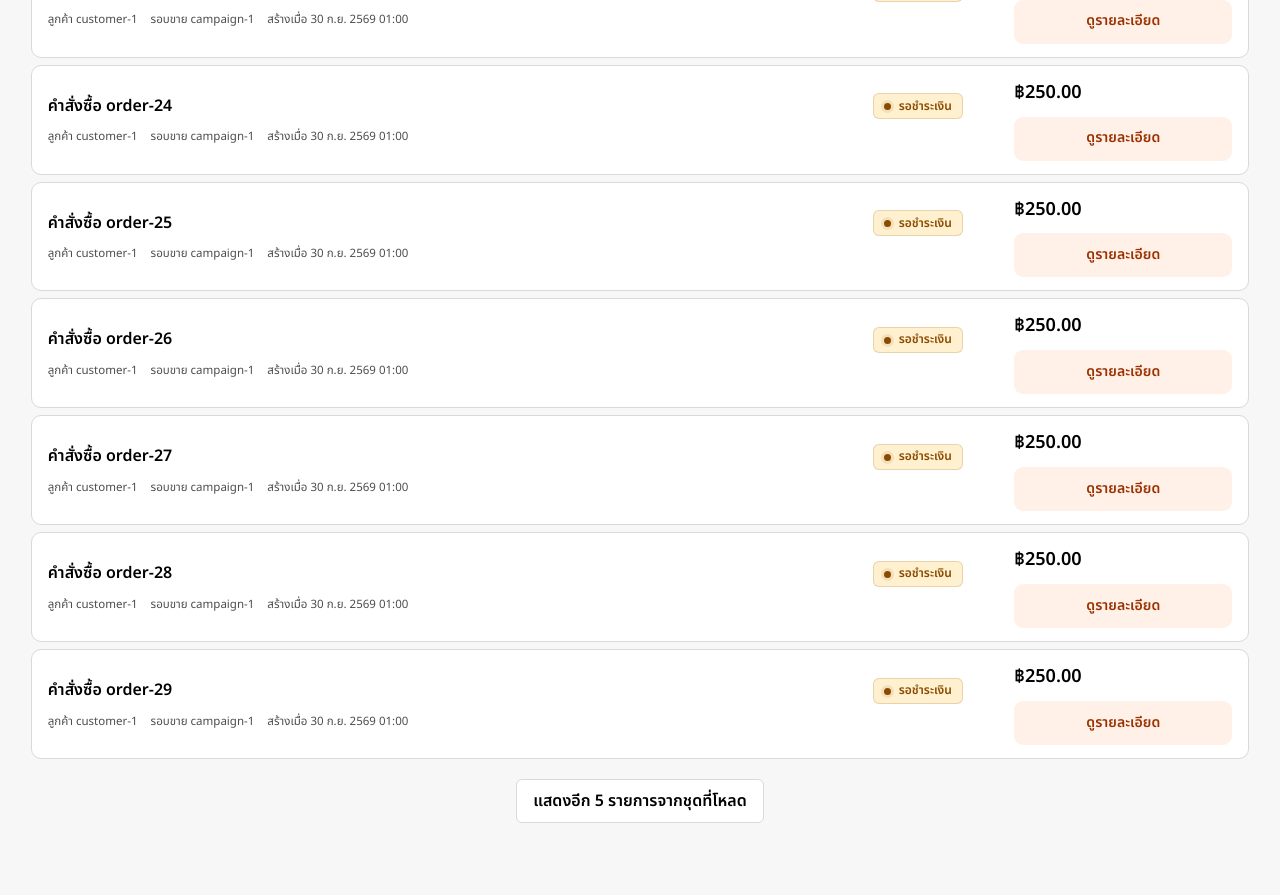
Test case: OrganizationOrdersView › renders at most 30 loaded records initially and reveals more without another API request
(page scrolled)
Expected: the text "คำสั่งซื้อ order-34" is not shown
Click the button "แสดงอีก 5 รายการจากชุดที่โหลด". click: click(640, 801)
box: x1=516 y1=779 x2=764 y2=823
(page scrolled)
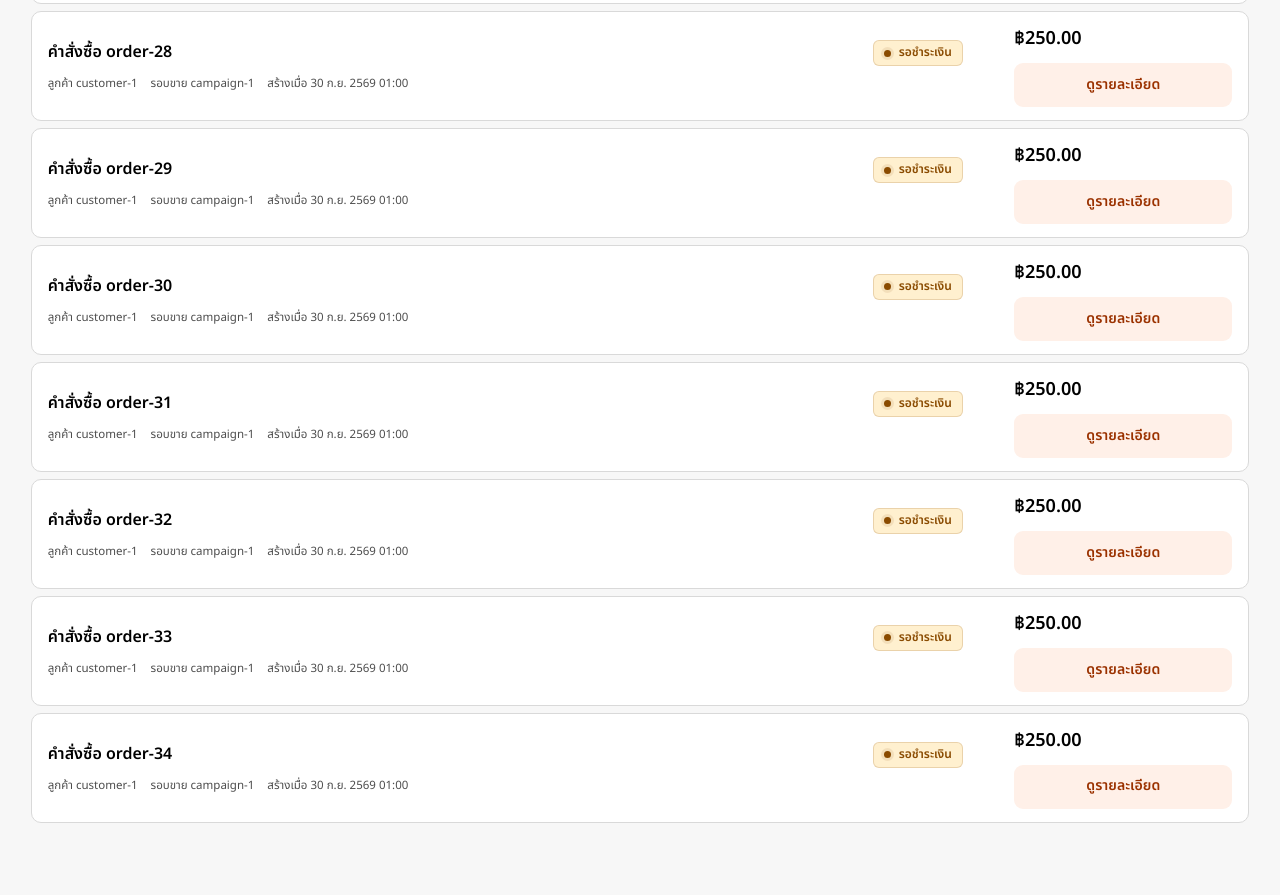
Now the heading "คำสั่งซื้อ order-34" is shown, box x1=48 y1=742 x2=172 y2=766
